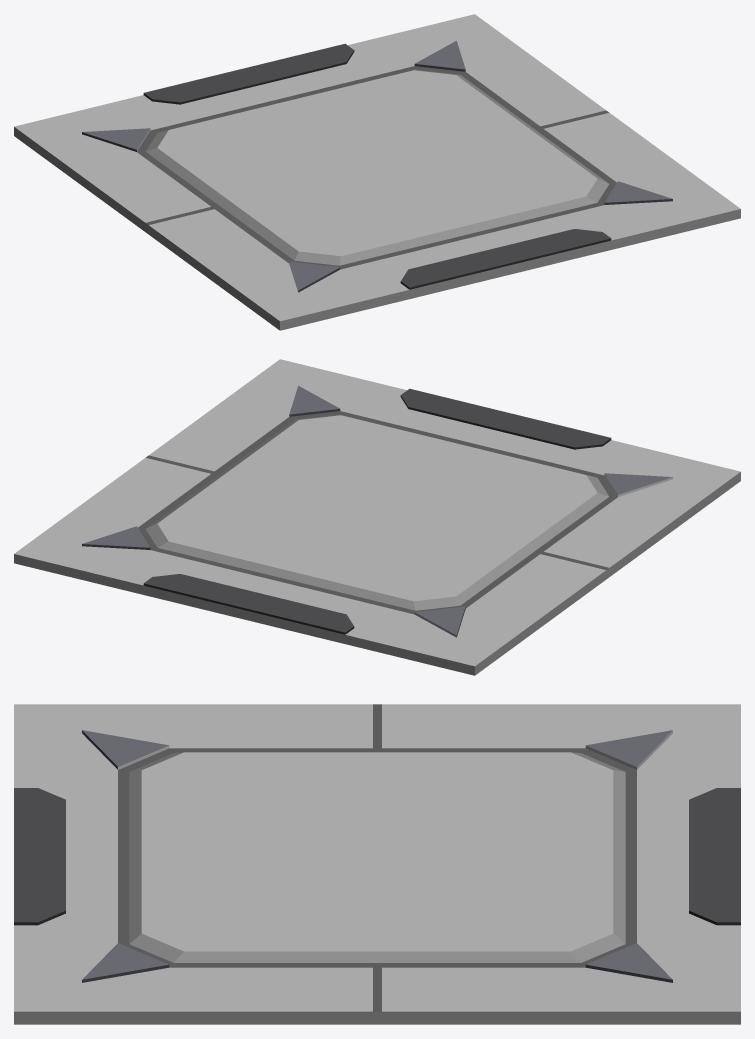
File: FloorModuleSciFi_01.glb
3 views of the same model, one above another, from view 1: azimuth 30°, elevation 25°; view 2: azimuth 150°, elevation 25°; view 3: azimuth 270°, elevation 25° (orthographic). The views are drawn at different scales.
Parts seen in each view (by area): view 1: FloorModuleSciFi_01; view 2: FloorModuleSciFi_01; view 3: FloorModuleSciFi_01.
Boxes of the visible parts, box(x1,y1,x2,y2) form: FloorModuleSciFi_01: box(14, 14, 740, 330); FloorModuleSciFi_01: box(14, 359, 740, 675); FloorModuleSciFi_01: box(14, 704, 740, 1024).
Size of what is drawn, in the model's own units: 2 by 0.0577 by 2.
1 material, 1 textured.
